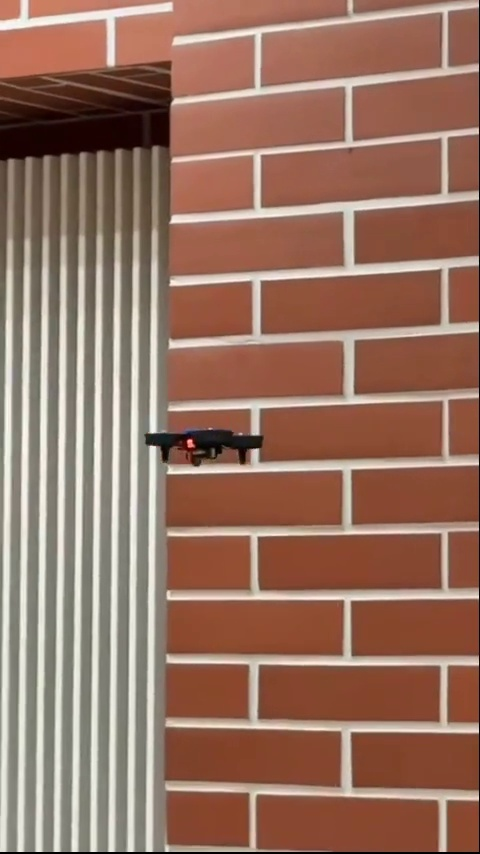drone: (136, 416, 270, 475)
